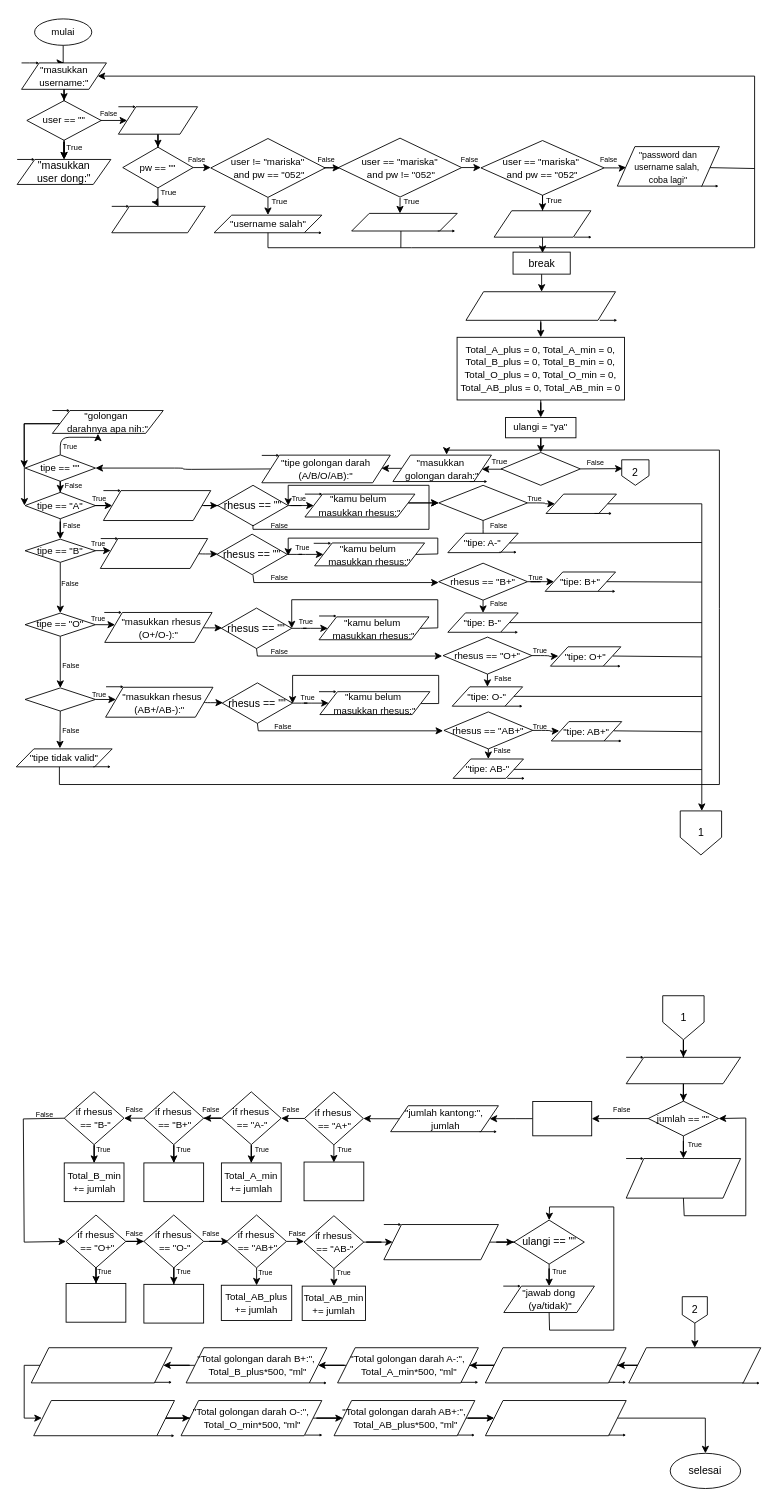
Some shapes in this 778 by 1504 pixel diagram are drawn without their labels. Here are the shapes that lost their labels. From the top down, the centre of each, then its label:
pixel 157 120: "masukkan password:"
pixel 158 219: "masukkan pw dong:"
pixel 404 222: "password salah"
pixel 542 223: "login berhasil"
pixel 540 305: "--PROGRAM MENGELOLA STOK DARAH--"
pixel 540 468: ulangi == "ya"
pixel 157 505: "masukkan rhesus (A+/A-):"
pixel 482 502: rhesus == "A+"
pixel 580 503: "tipe: A+"
pixel 153 553: "masukkan rhesus (B+/B-):"
pixel 59 699: tipe == "AB"
pixel 683 1070: "masukkan jumlah kantong darah:"
pixel 562 1118: jumlah = int(jumlah)
pixel 173 1182: Total_B_plus += jumlah
pixel 333 1181: Total_A_plus += jumlah
pixel 683 1178: "jumlah gak boleh kosong, masukkan jumlah:"
pixel 440 1242: "apakah masih mau input lagi (ya/tidak)"
pixel 95 1302: Total_O_plus += jumlah
pixel 173 1303: Total_O_min += jumlah
pixel 101 1365: "Total golongan darah B-:", Total_B_min*500, "ml"
pixel 555 1365: "Total golongan darah A+:", Total_A_plus*500, "ml"
pixel 694 1365: "--JUMLAH AKHIR GOLONGAN DARAH--"
pixel 104 1418: "Total golongan darah O+:", Total_O_plus*500, "ml"
pixel 555 1418: "Total golongan darah AB-:", Total_AB_min*500, "ml"
